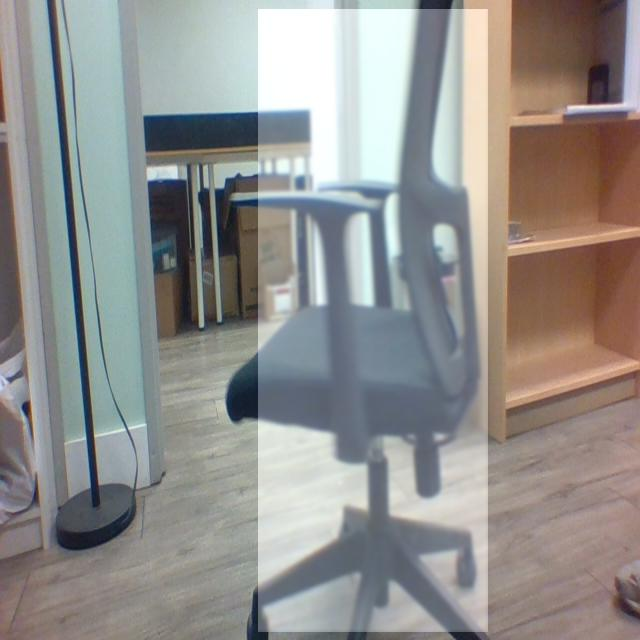black-chair: (258, 9, 489, 633)
